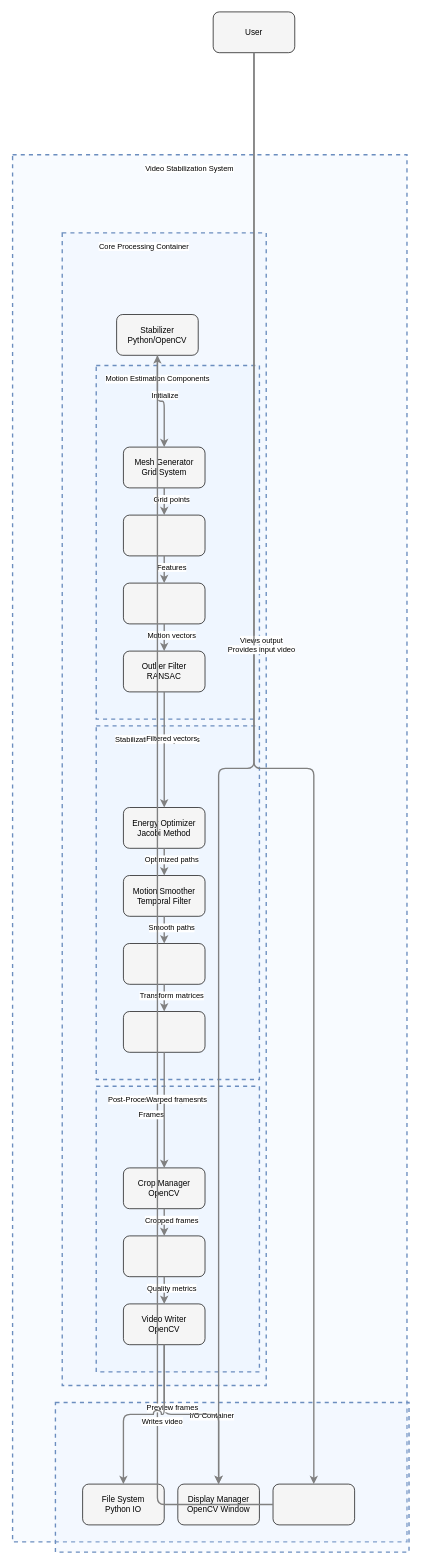
This 421x1565 diagram has some shape labels left out. The centre of each missing label's shape, as x and y in pixels:
"Feature Detector FAST Algorithm" goes at point 164,535.
"Homography Calculator OpenCV" goes at point 164,963.
"Motion Tracker Optical Flow" goes at point 164,603.
"Score Calculator NumPy" goes at point 164,1256.
"Video Reader OpenCV" goes at point 313,1504.
"Warp Engine OpenCV Remap" goes at point 164,1031.
